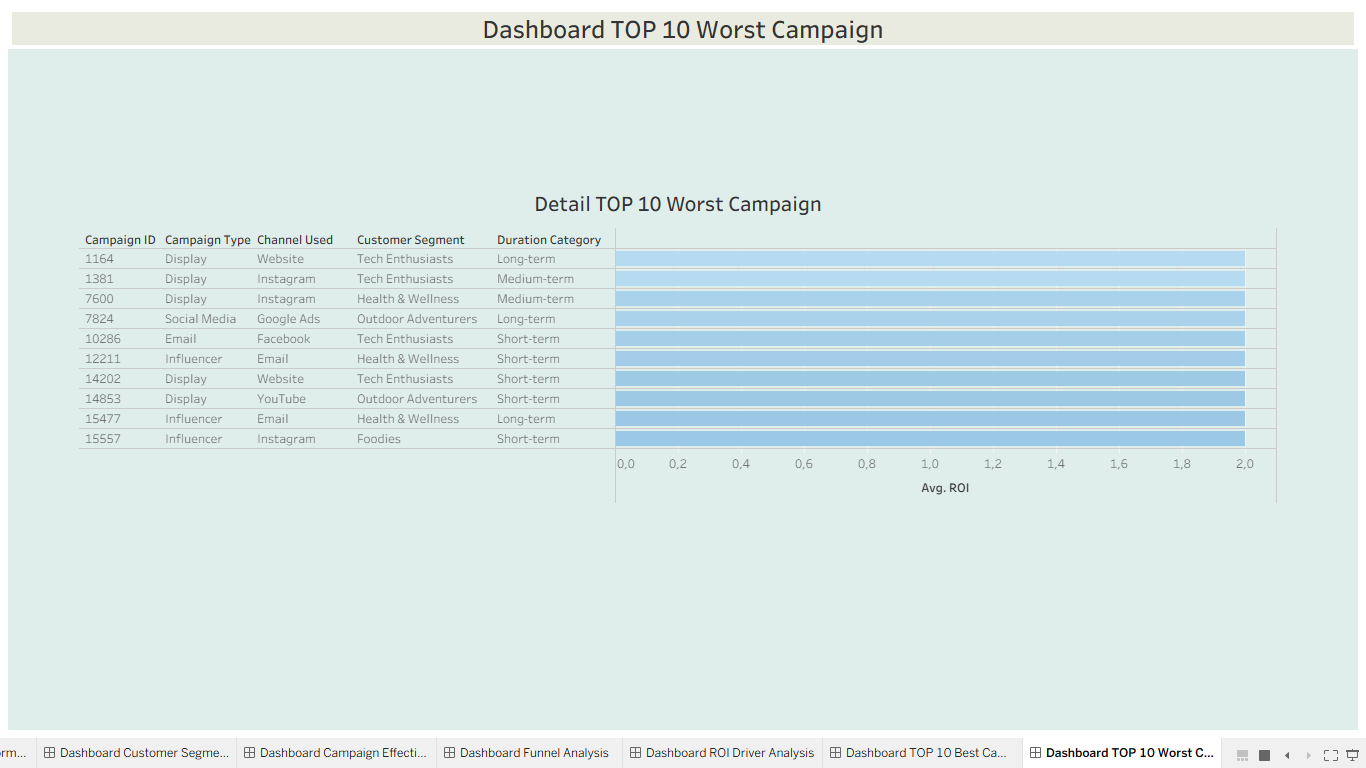

This screenshot's page, from the dashboard's own definition file:
{"tool":"tableau","page":{"name":"Dashboard TOP 10 Worst Campaign","canvas":[1000,1000],"units":"permille","ordinal":7},"visuals":[{"type":"title","box":[6.9,13.5,986.1,69.2]},{"type":"worksheet","title":"Detail TOP 10 Worst Campaign","mark":"Automatic","rows":["Campaign_ID","Campaign_Type","Channel_Used","Customer_Segment","Duration_Category"],"cols":["ROI"],"box":[58,250,877.1,547.3]}]}

Visuals, with their boxes on the dashboard's canvas, which has no fixed pixel size, in thousandths of its width and height (x1, y1, x2, y2). These are canvas units, not pixel positions in the 1366x768 screenshot, which may show the page scaled, cropped or inside an application window:
title: Rect(7, 14, 993, 83)
"Detail TOP 10 Worst Campaign" worksheet: Rect(58, 250, 935, 797)
